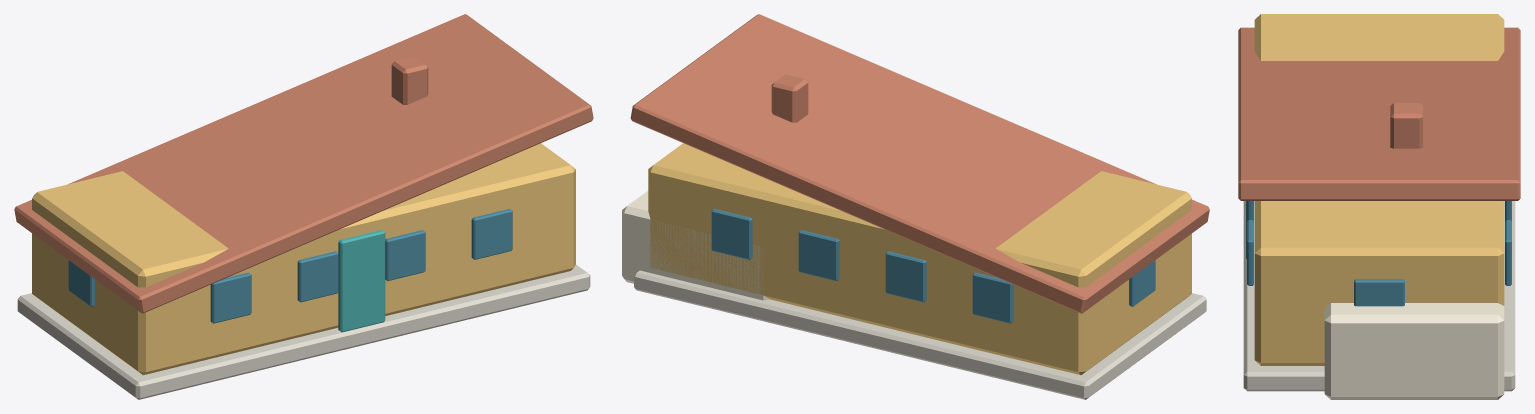
File: RES_LOW_2x1_010.glb
The picture shows the model from 3 angles, left to right: view 1: azimuth 30°, elevation 25°; view 2: azimuth 150°, elevation 25°; view 3: azimuth 270°, elevation 25°; orthographic projection. The views are drawn at different scales.
Parts seen in each view (by area): view 1: RES_LOW_2x1_010_Visual; view 2: RES_LOW_2x1_010_Visual; view 3: RES_LOW_2x1_010_Visual.
Part boxes in pixels (x1,y1,x2,y2): RES_LOW_2x1_010_Visual: [14, 14, 593, 399]; RES_LOW_2x1_010_Visual: [622, 14, 1209, 399]; RES_LOW_2x1_010_Visual: [1238, 14, 1520, 399].
Size of what is drawn, in the model's own units: 3.37 by 1.37 by 1.56.
